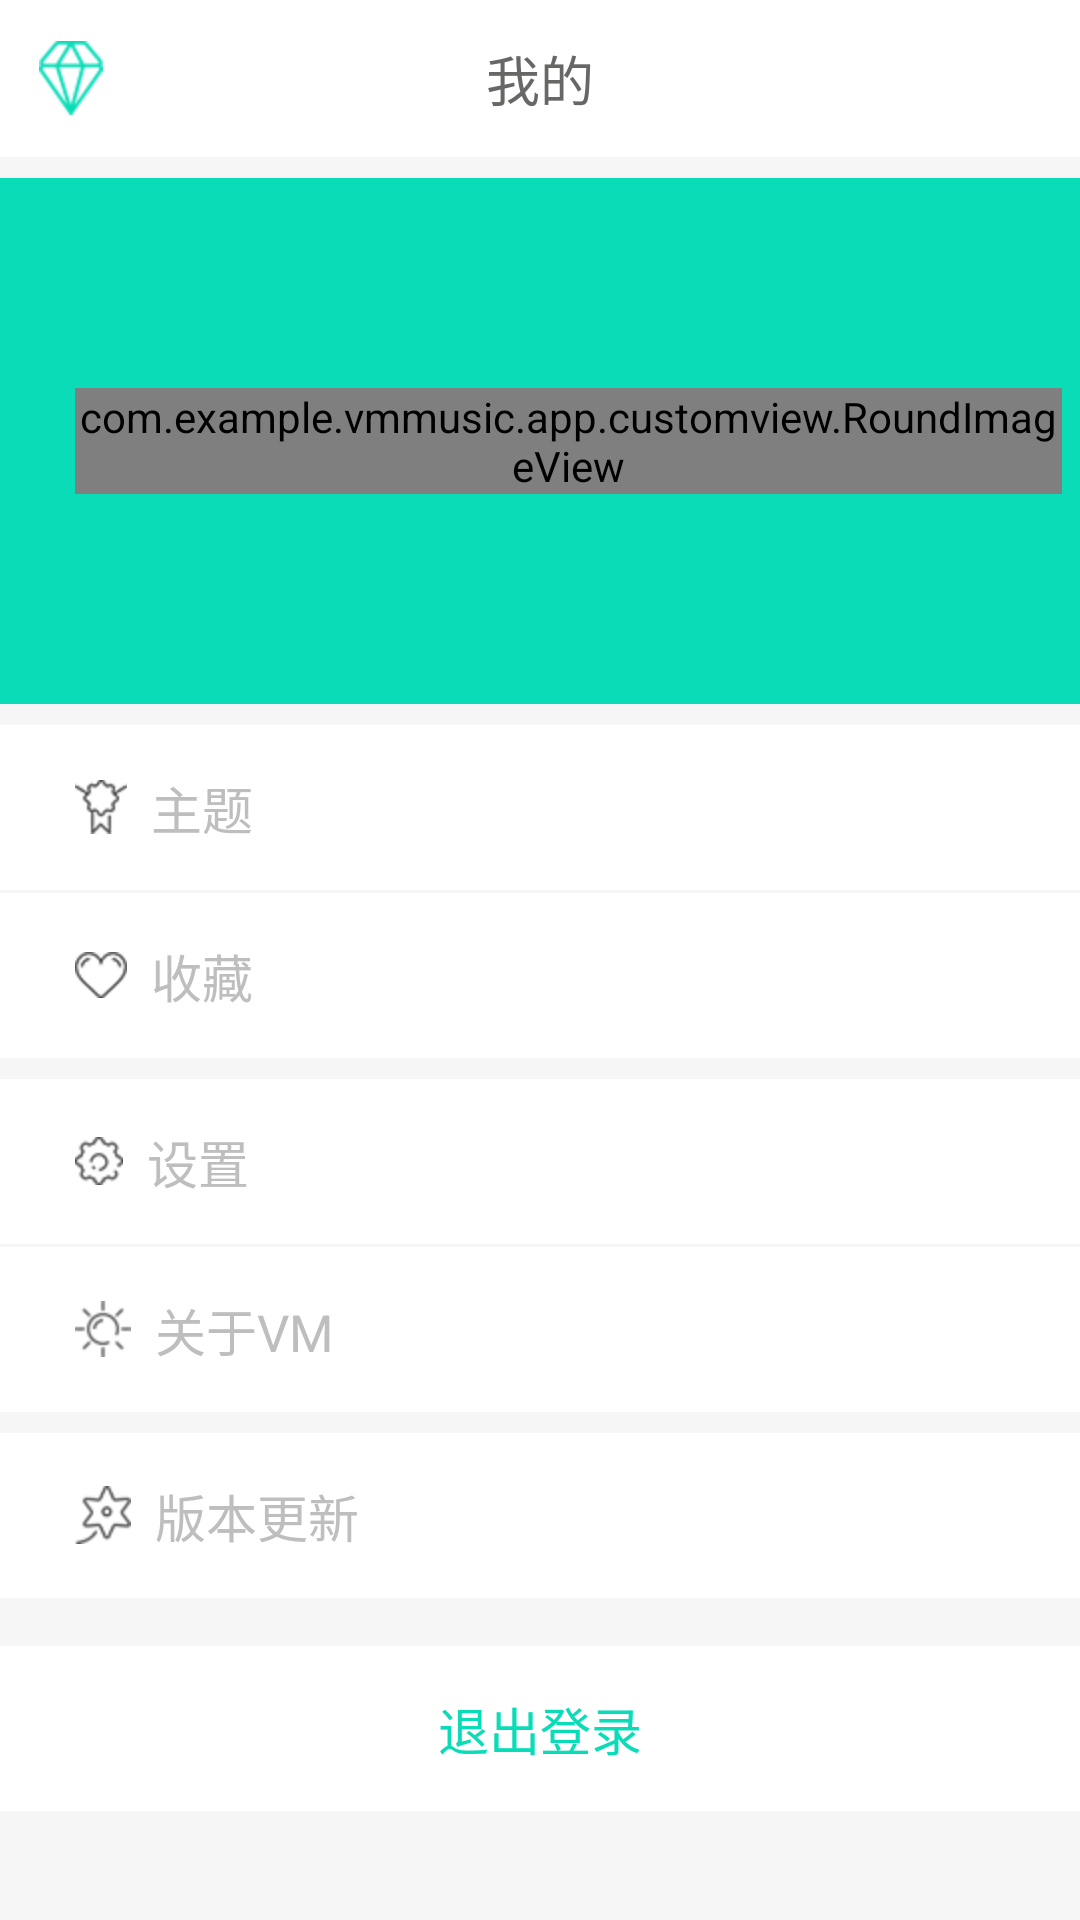

Where to tap for icons on this 1080*1920 app screen, as [x,y]:
top left diamond: [71,78]
